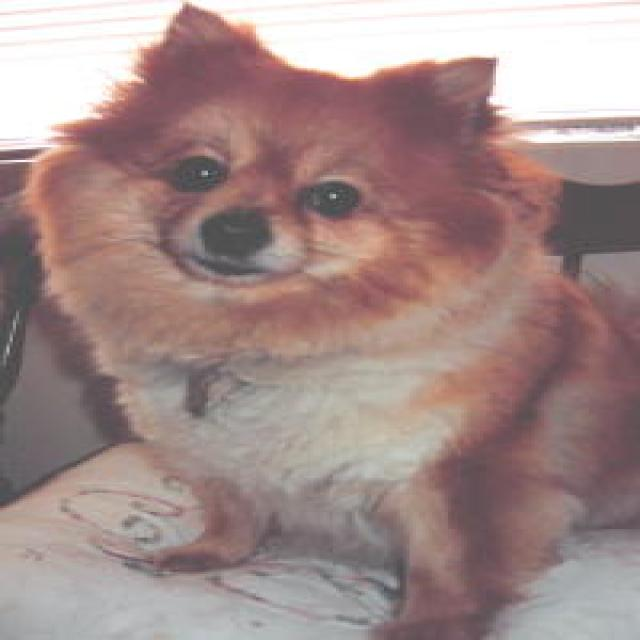dog-pomeranian: (3, 2, 634, 636)
